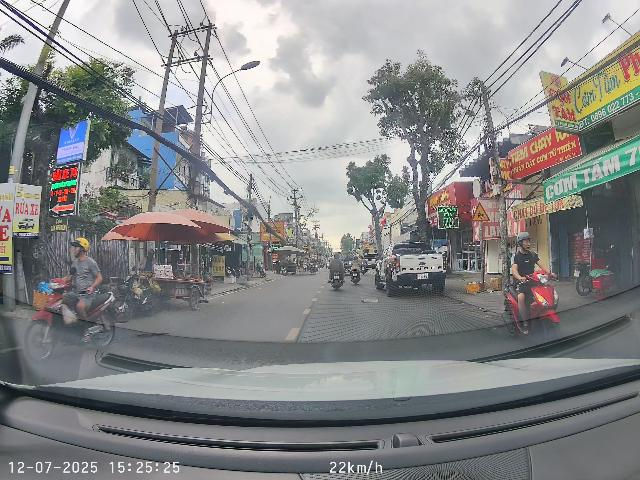225-chu-y-tre-em: (471, 202, 490, 222)
